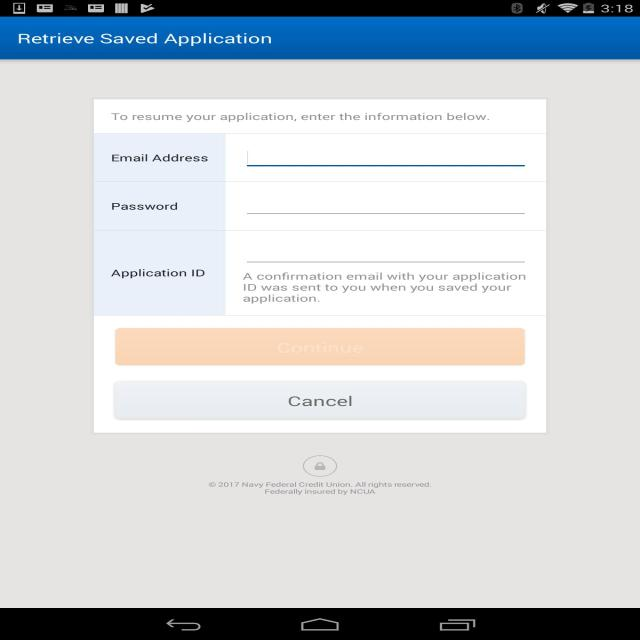button: (113, 327, 528, 366), (113, 381, 527, 418)
field: (242, 144, 529, 168), (243, 243, 529, 264), (246, 194, 530, 215)
heading: (14, 30, 274, 48)
label: (109, 267, 208, 279), (109, 154, 210, 164), (108, 200, 182, 212)
text: (239, 274, 529, 304), (109, 110, 493, 124), (206, 479, 436, 496)
